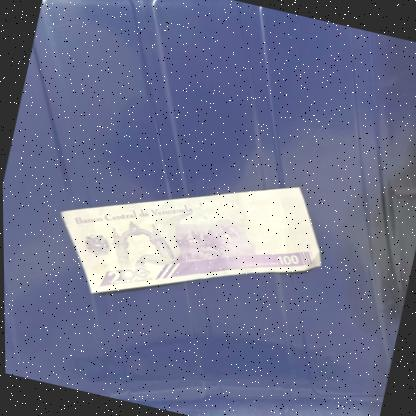one_hundred-back-vef: (42, 134, 339, 344)
